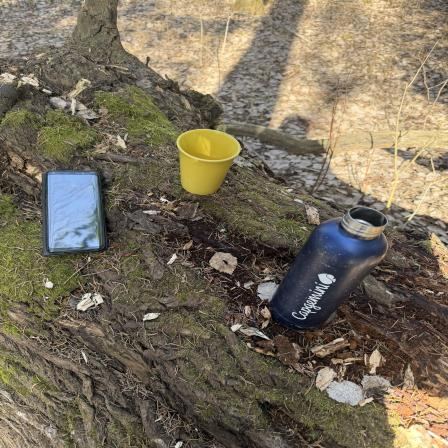blue_bottle: (275, 204, 387, 336)
phone: (42, 168, 105, 254)
yellow_cup: (176, 129, 242, 197)
